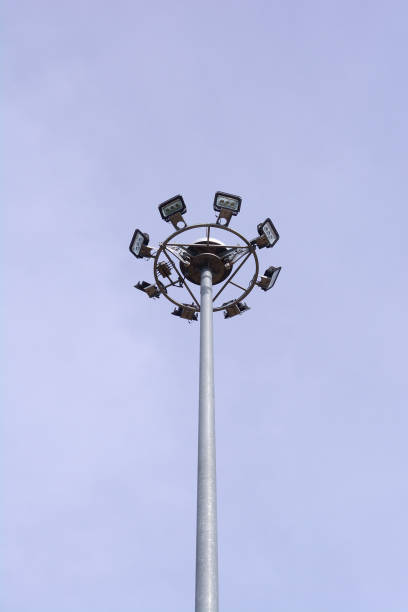light_pole: (196, 276, 218, 612)
